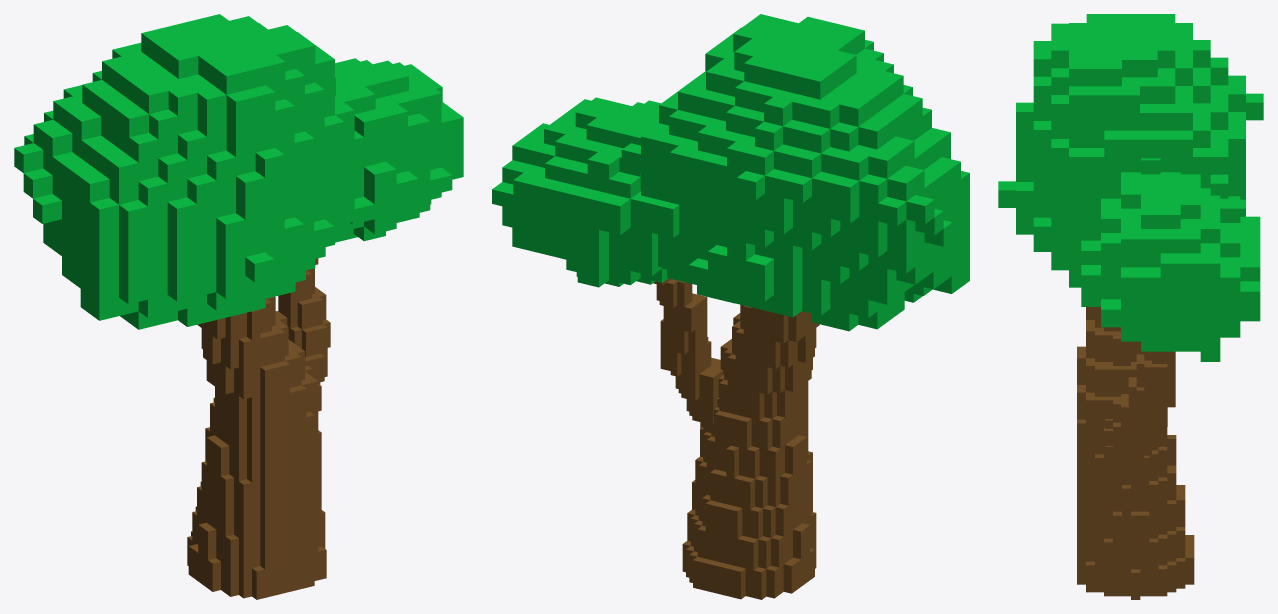
File: tree.fbx
The picture shows the model from 3 angles, left to right: view 1: azimuth 30°, elevation 25°; view 2: azimuth 150°, elevation 25°; view 3: azimuth 270°, elevation 25°; orthographic projection. The views are drawn at different scales.
Visible parts, largest first — view 1: Sphere, Cylinder, Sphere.001, Cylinder.001; view 2: Sphere, Cylinder, Sphere.001, Cylinder.001; view 3: Sphere, Sphere.001, Cylinder, Cylinder.001.
Part boxes in pixels (box(x1,y1,x2,y2)): Sphere: box(14, 14, 354, 329); Cylinder: box(187, 296, 326, 599); Sphere.001: box(335, 58, 463, 242); Cylinder.001: box(278, 258, 330, 411); Sphere: box(621, 14, 969, 331); Cylinder: box(682, 304, 819, 599); Sphere.001: box(492, 97, 683, 287); Cylinder.001: box(653, 278, 723, 433); Sphere: box(998, 14, 1263, 287); Sphere.001: box(1081, 158, 1260, 361); Cylinder: box(1077, 307, 1194, 599); Cylinder.001: box(1105, 351, 1175, 470).
Bounding box in the file's own units: 572 × 723 × 339.
